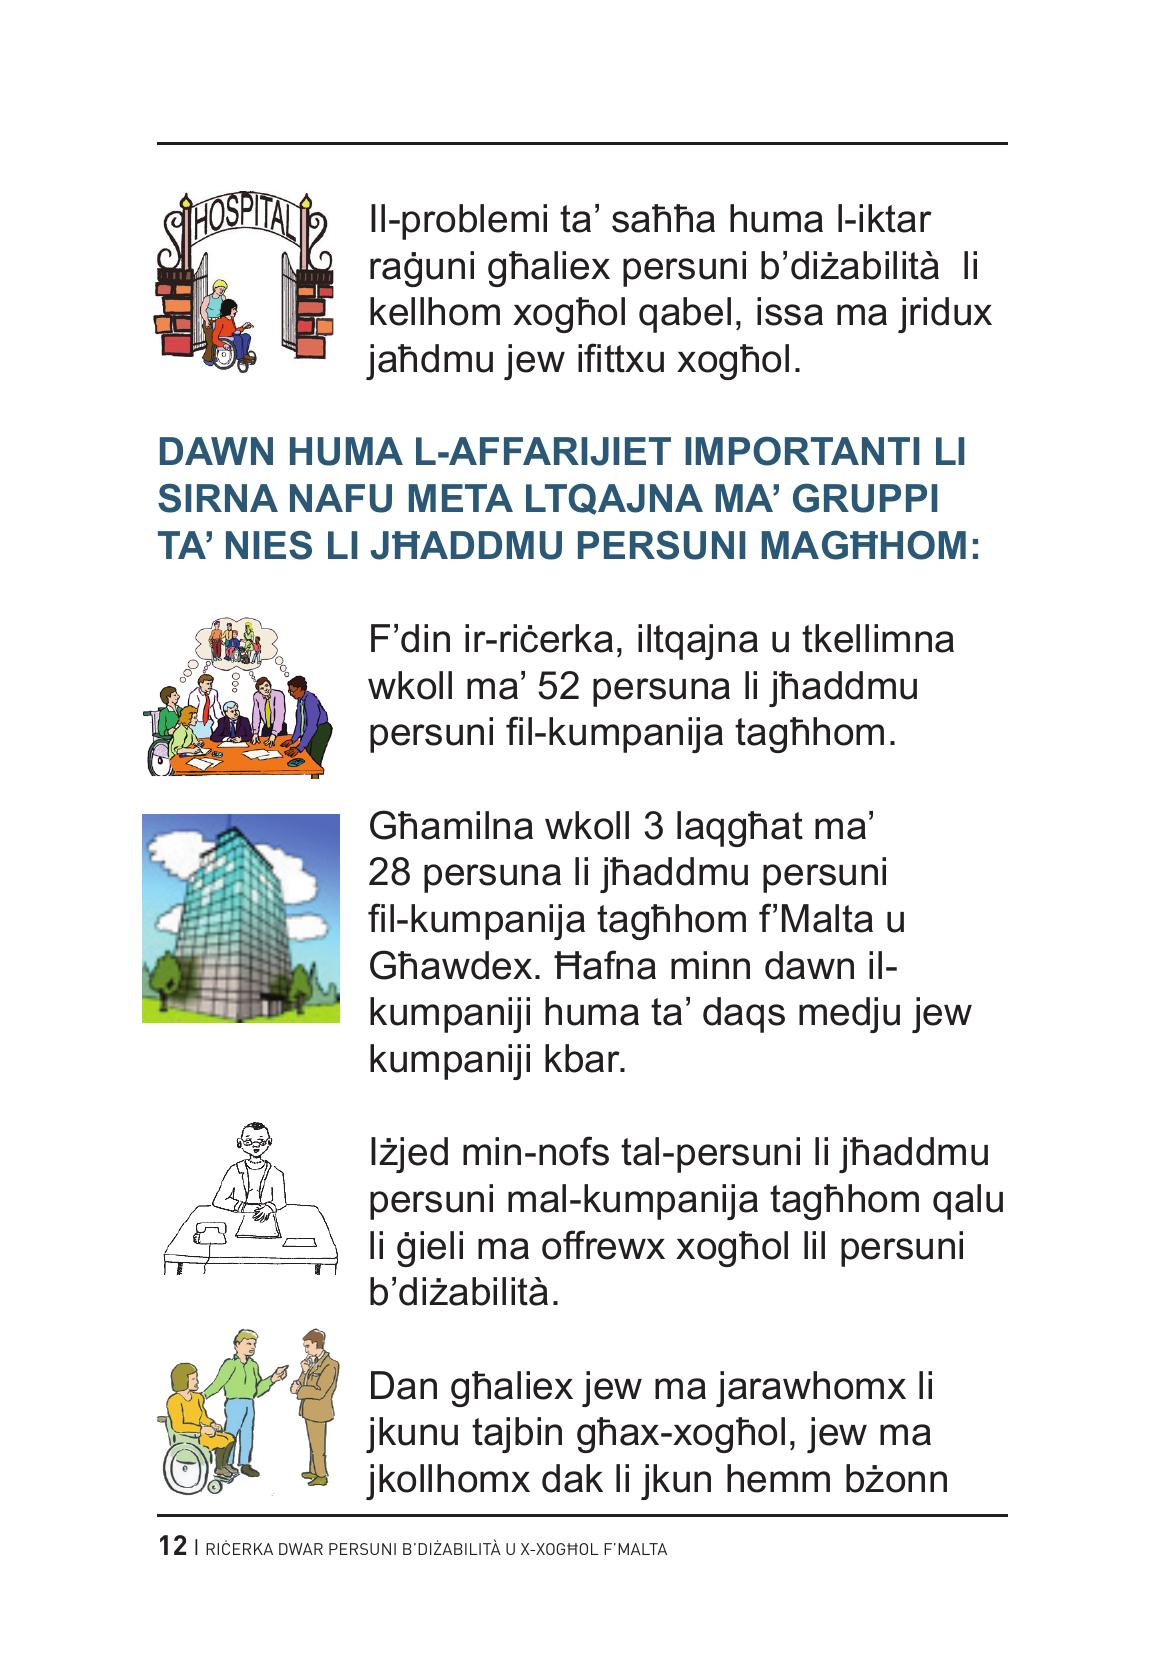text: (360, 607, 1020, 1506), (138, 418, 1001, 590), (351, 189, 1007, 410)
